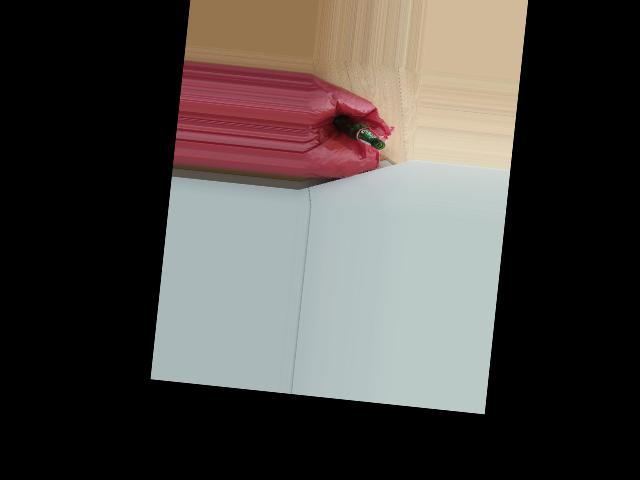beer: (332, 113, 387, 149)
